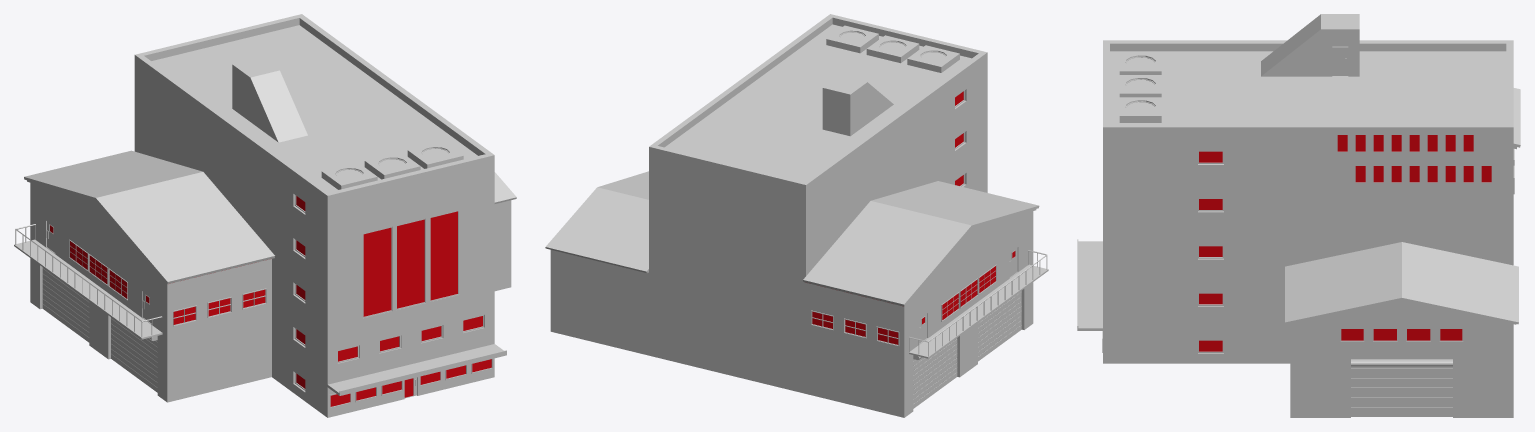
The model's file is SM_infrastructure_buildings_011.glb.
The picture shows the model from 3 angles, left to right: view 1: azimuth 30°, elevation 25°; view 2: azimuth 150°, elevation 25°; view 3: azimuth 270°, elevation 25°; orthographic projection. The views are drawn at different scales.
Parts seen in each view (by area): view 1: infrastructure_buildings_011; view 2: infrastructure_buildings_011; view 3: infrastructure_buildings_011.
Part boxes in pixels (x1,y1,x2,y2): infrastructure_buildings_011: (14,14,516,417); infrastructure_buildings_011: (545,14,1048,417); infrastructure_buildings_011: (1077,14,1520,417).
Bounding box in the file's own units: 38 × 23.35 × 34.
